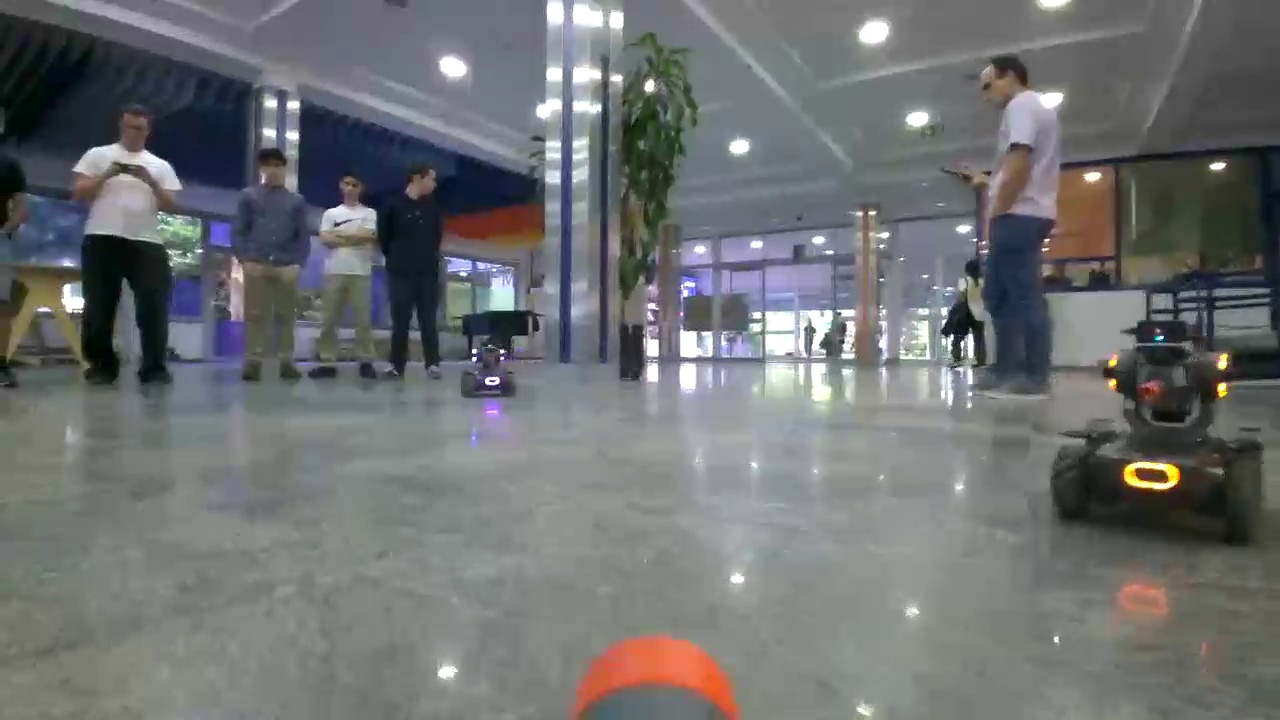robot: (1052, 322, 1269, 542), (461, 345, 514, 396)
